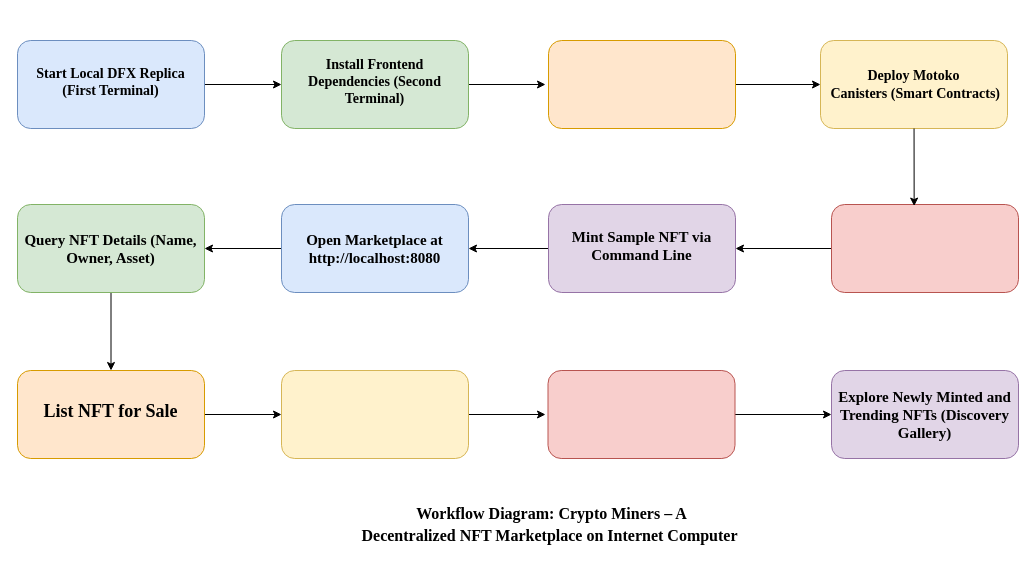
This 1036x585 diagram has some shape labels left out. The shapes that lost their labels are listed below. From the top down, each one's box as (x1, y1, x2, y2) in pixels, then its label:
(548, 40, 736, 128): Run Frontend Server
(830, 204, 1018, 292): Retrieve Principal ID
(280, 370, 468, 458): Transfer NFT Ownership
(547, 370, 735, 458): View Personal NFT Collection (My NFTs Section)
